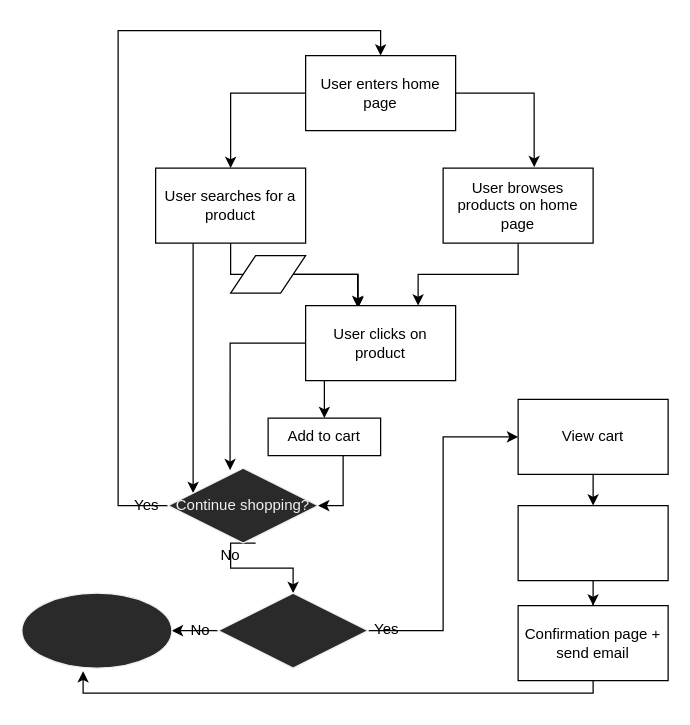
Image size: 690x725. Some labels were removed from this diagram. The shapes that lost their labels are listed below. From the top down, each one's centre as x and y in pixels, then its label:
the point at 267,273: Query
the point at 592,542: View payment
the point at 96,630: Leave Website
the point at 292,630: Checkout?
